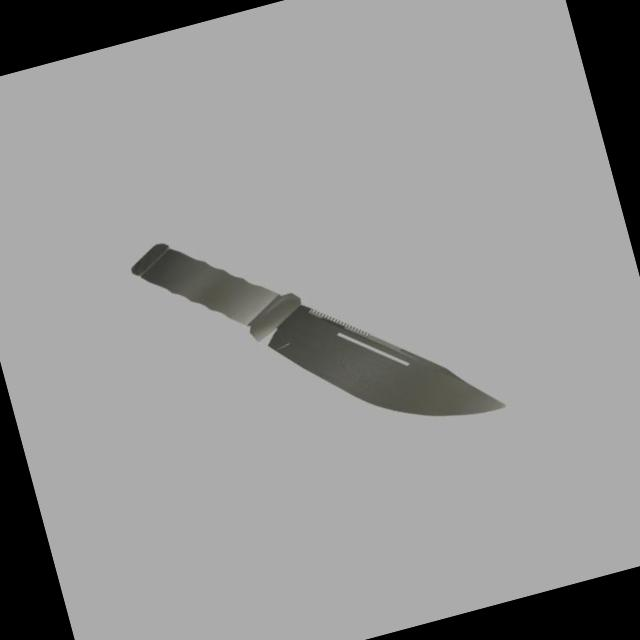knife: (127, 213, 298, 359)
